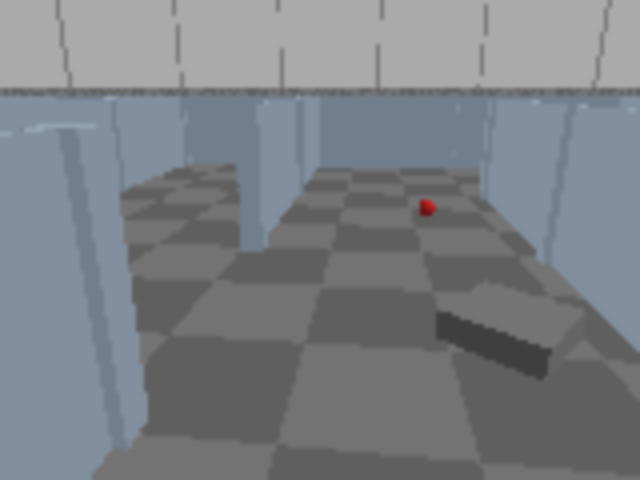obstacle: (436, 281, 588, 382)
puck: (415, 197, 440, 219)
